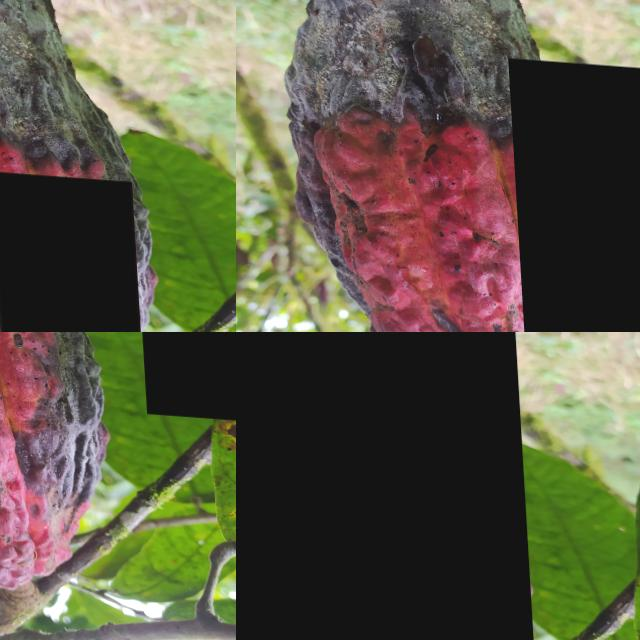Fitoftora: (236, 332, 533, 640), (0, 167, 139, 332)
Monilia: (506, 52, 640, 332)
Sana: (483, 206, 564, 332), (138, 332, 236, 412)
